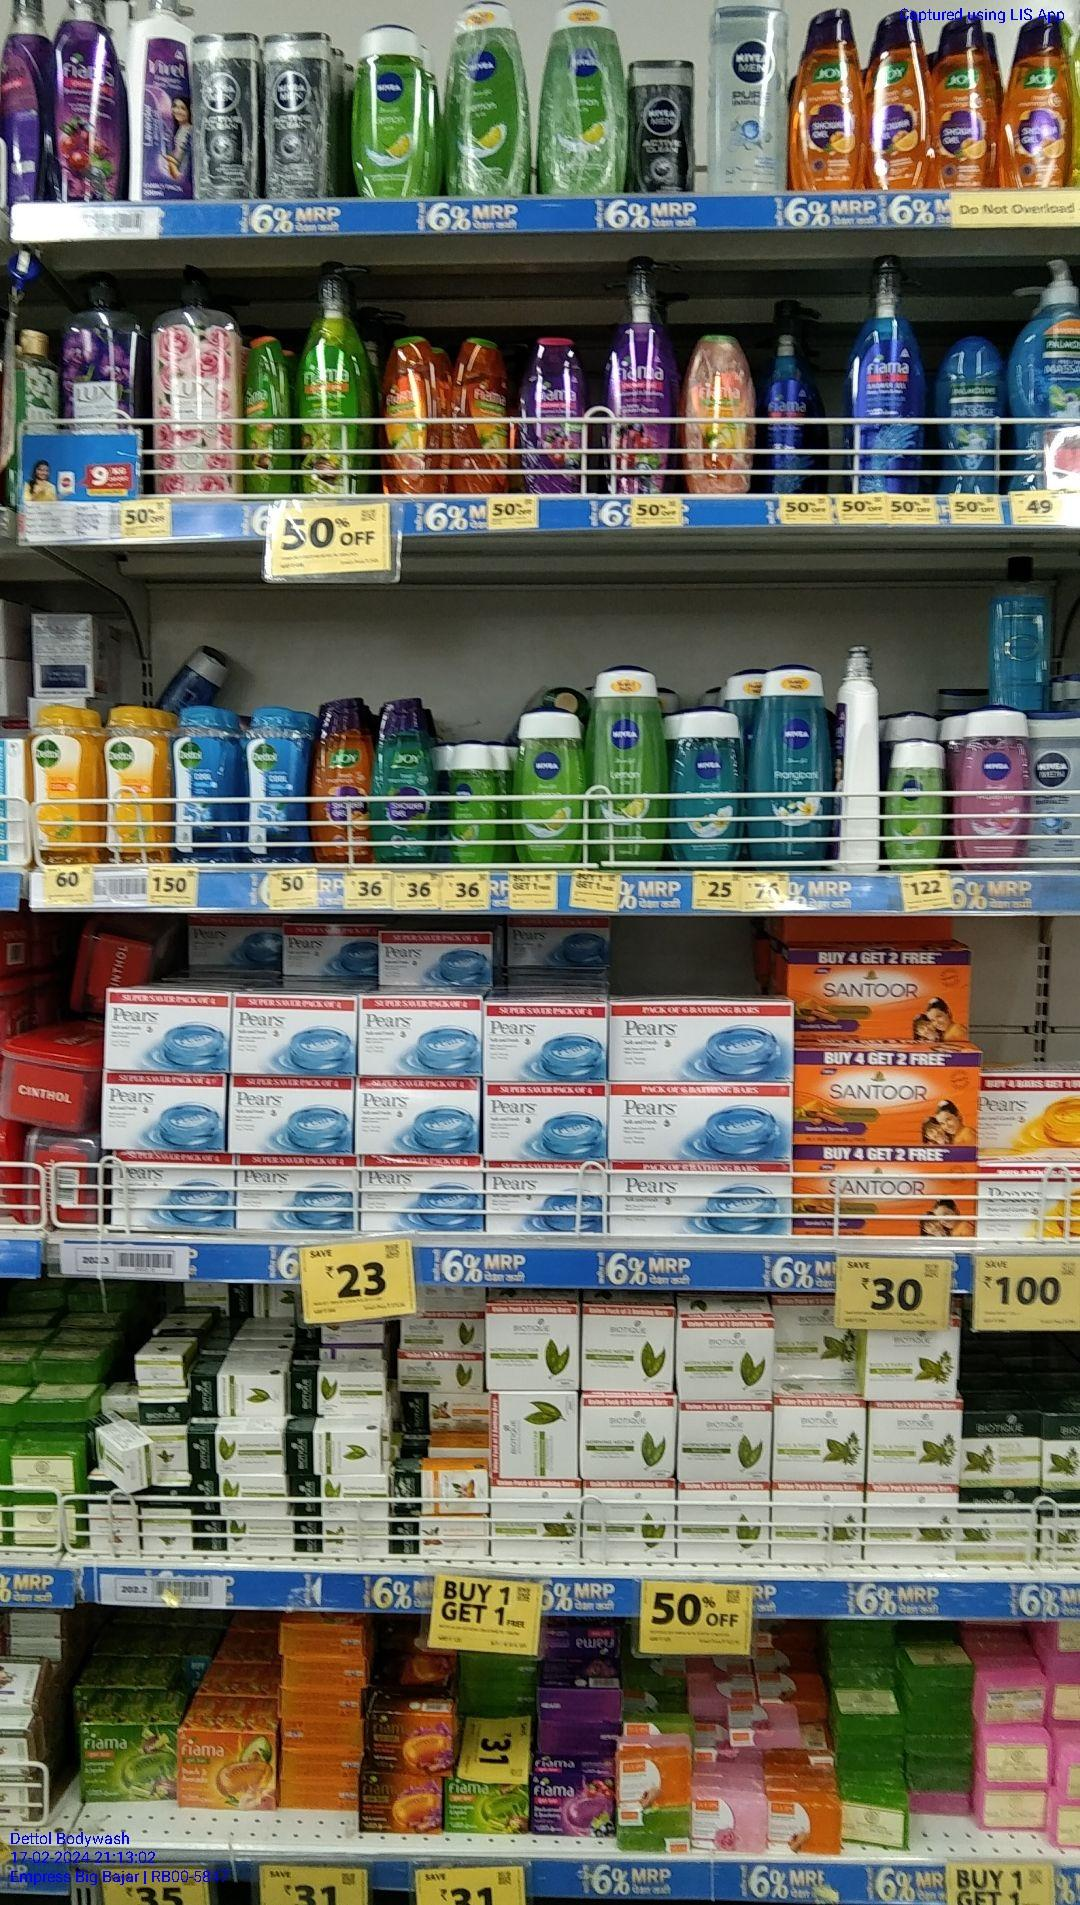Dettol_Bodywash_Cool: (243, 709, 308, 861), (173, 708, 234, 861)
Dettol_Bodywash_Refresh: (27, 705, 97, 864), (99, 704, 168, 860)
Fiama_Shower_Gel_Lemongrass_and_Jojoba_250ML: (241, 334, 292, 491)
Fiama_Shower_Gel_Peach_and_Avocado_250ML: (448, 339, 508, 493), (381, 330, 437, 495)
Joy_Shower_Gel_Mandarin_and_Lemongrass_250ML: (315, 697, 369, 865)
Joy_Shower_Gel_Mint_and_Eucalyptus_250ML: (373, 697, 428, 854)
Nivea_Shower_Gel_Frangipani_and_Oil_250ML: (751, 663, 833, 860), (677, 708, 747, 865)
Nivea_Shower_Gel_Lemon_and_Oil_250ML: (588, 667, 664, 860), (520, 709, 577, 862)
Nivea_Shower_Gel_Waterlily_and_Oil_250ML: (957, 708, 1030, 865)
Palmolive_Aroma_Moments_Feel_The_Massage_Shower_Gel_250ML: (932, 341, 999, 493)
